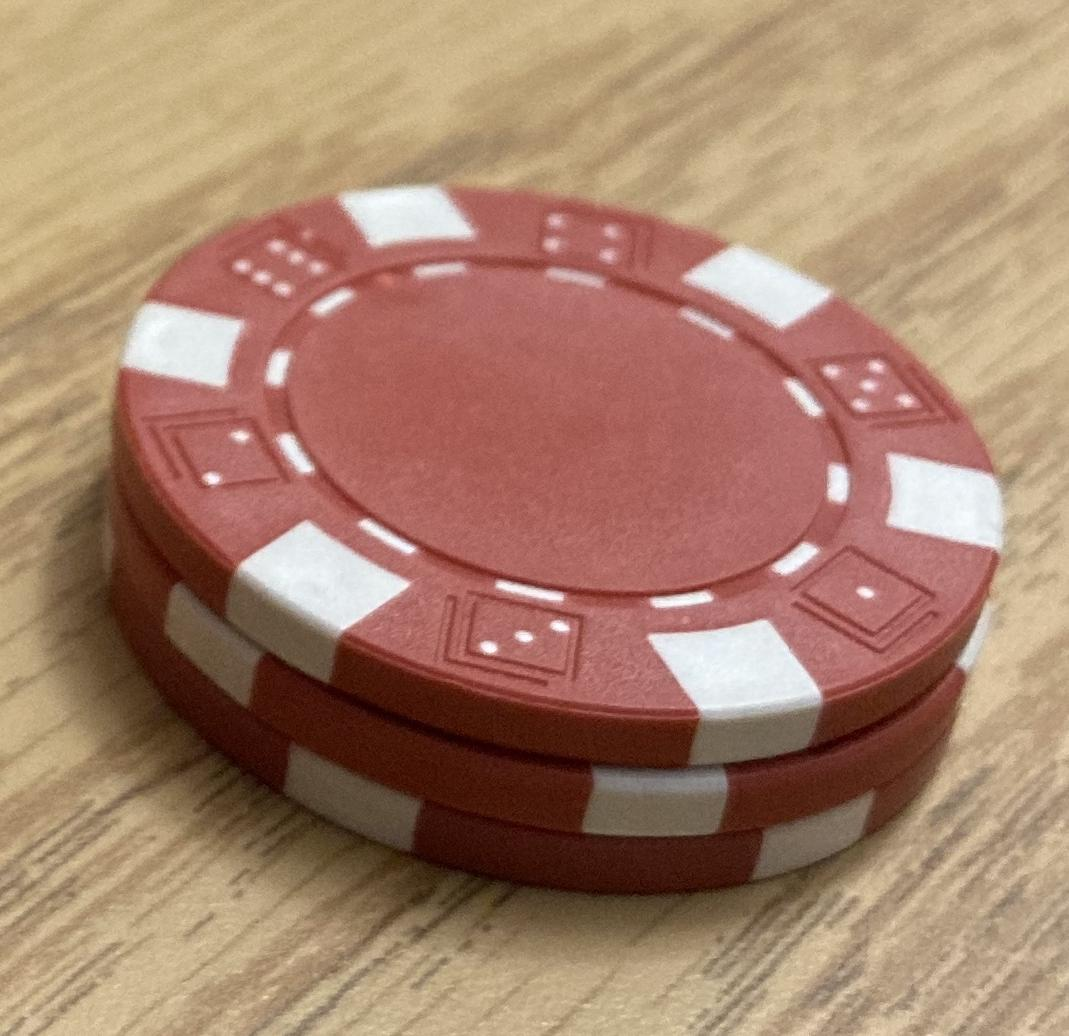Chip: (1, 1, 1069, 1036)
